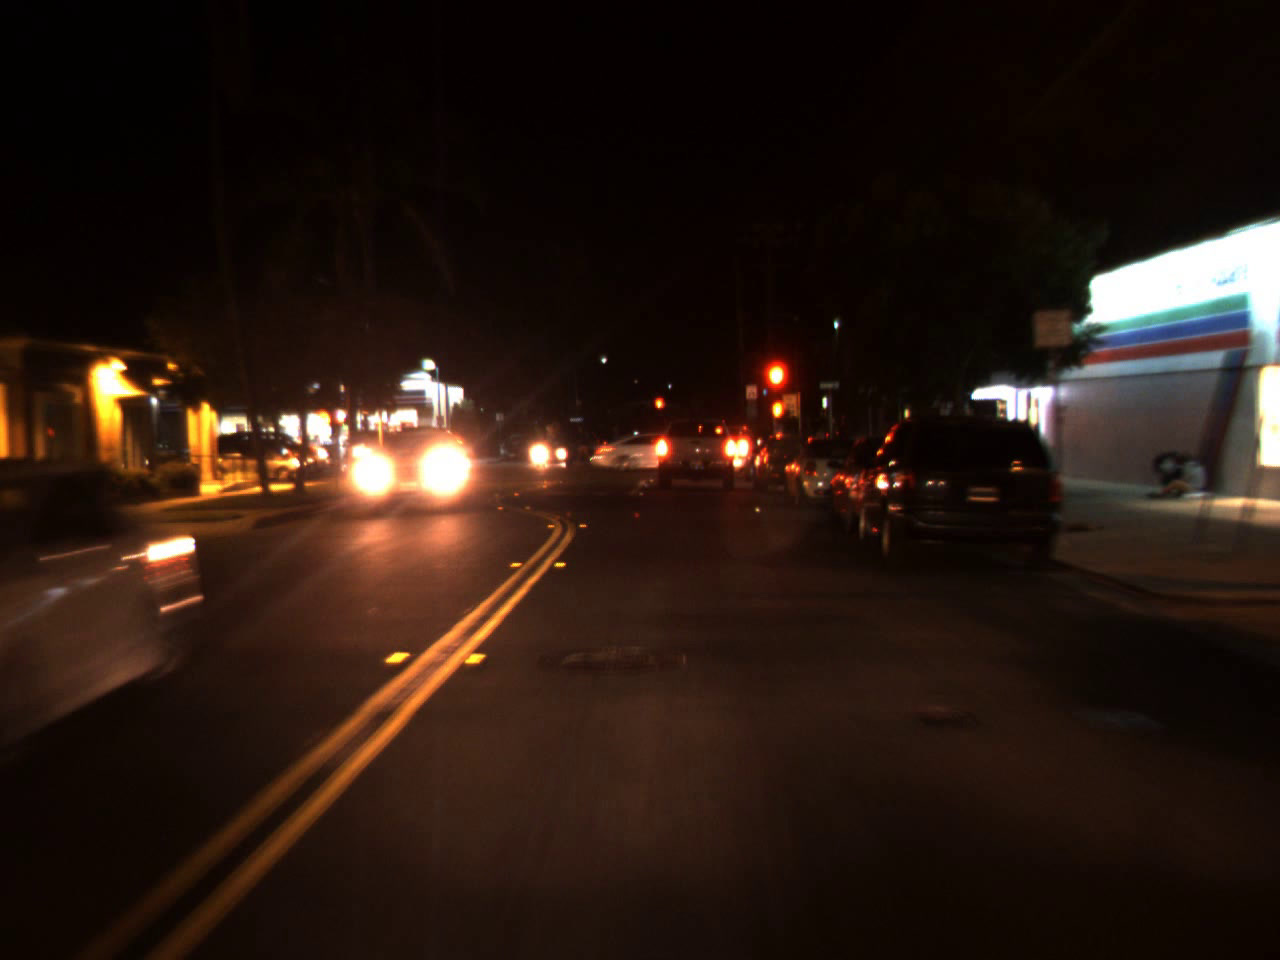stop: (758, 355, 794, 430), (654, 395, 666, 422)
